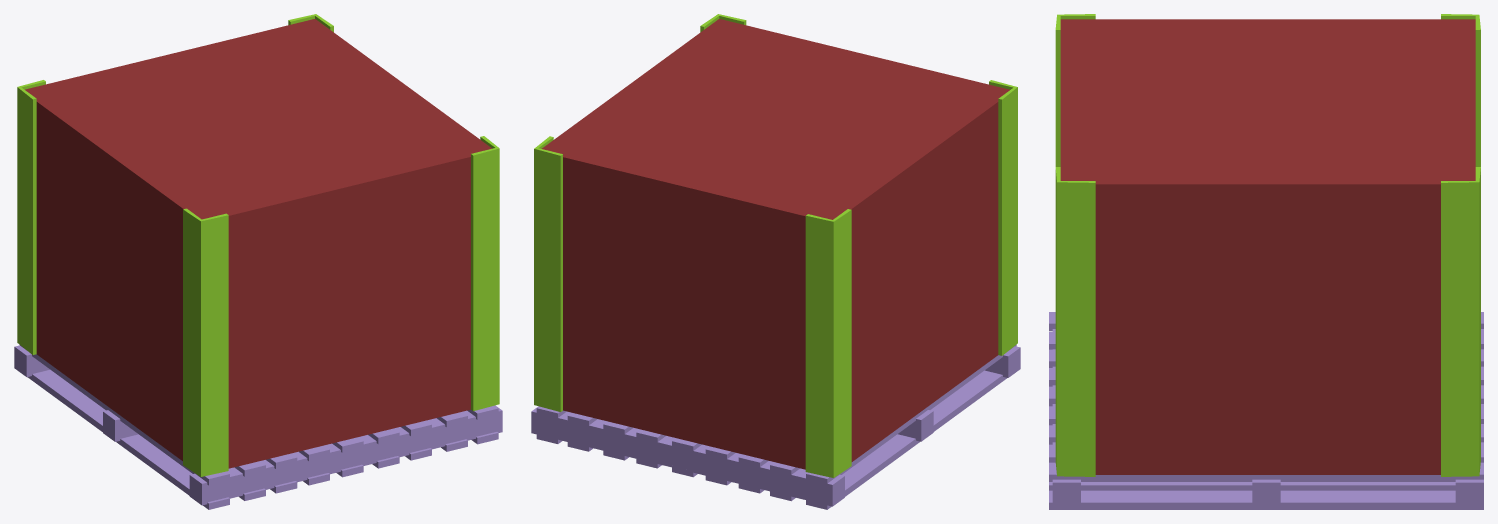
The model's file is SM_Crate_01.fbx.
3 renders of one model, left to right at view 1: azimuth 30°, elevation 25°; view 2: azimuth 150°, elevation 25°; view 3: azimuth 270°, elevation 25°, orthographic. The views are drawn at different scales.
Visible parts, largest first — view 1: SM_Crate_01; view 2: SM_Crate_01; view 3: SM_Crate_01.
Part boxes in pixels (bbox=[...]): SM_Crate_01: bbox=[14, 14, 502, 509]; SM_Crate_01: bbox=[531, 14, 1020, 509]; SM_Crate_01: bbox=[1049, 14, 1483, 509].
Size of the model in its own units: 187 by 170 by 203.
